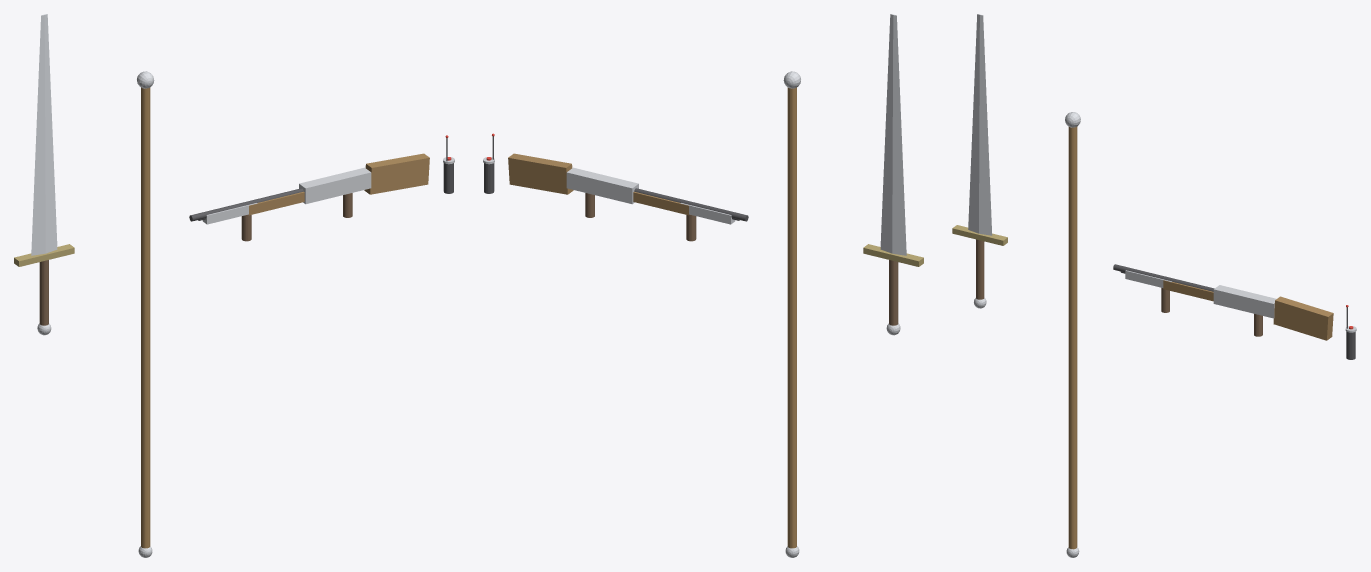
The model's file is weapons.glb.
The picture shows the model from 3 angles, left to right: view 1: azimuth 30°, elevation 25°; view 2: azimuth 150°, elevation 25°; view 3: azimuth 330°, elevation 25°; orthographic projection. The views are drawn at different scales.
Parts seen in each view (by area): view 1: Sword2H, Staff, Rifle, Pistol; view 2: Sword2H, Staff, Rifle, Pistol; view 3: Sword2H, Staff, Rifle, Pistol.
Part boxes in pixels (left/top/right/bottom): Sword2H: left=14, top=14, right=74, bottom=335; Staff: left=137, top=71, right=154, bottom=557; Rifle: left=189, top=153, right=429, bottom=221; Pistol: left=198, top=203, right=257, bottom=241; Sword2H: left=863, top=14, right=923, bottom=335; Staff: left=783, top=71, right=800, bottom=557; Rifle: left=508, top=153, right=748, bottom=221; Pistol: left=680, top=203, right=739, bottom=241; Sword2H: left=952, top=14, right=1007, bottom=308; Staff: left=1065, top=112, right=1080, bottom=557; Rifle: left=1113, top=264, right=1333, bottom=340; Pistol: left=1121, top=270, right=1172, bottom=312.
Bounding box in the file's own units: 1.73 × 2.14 × 0.06.
